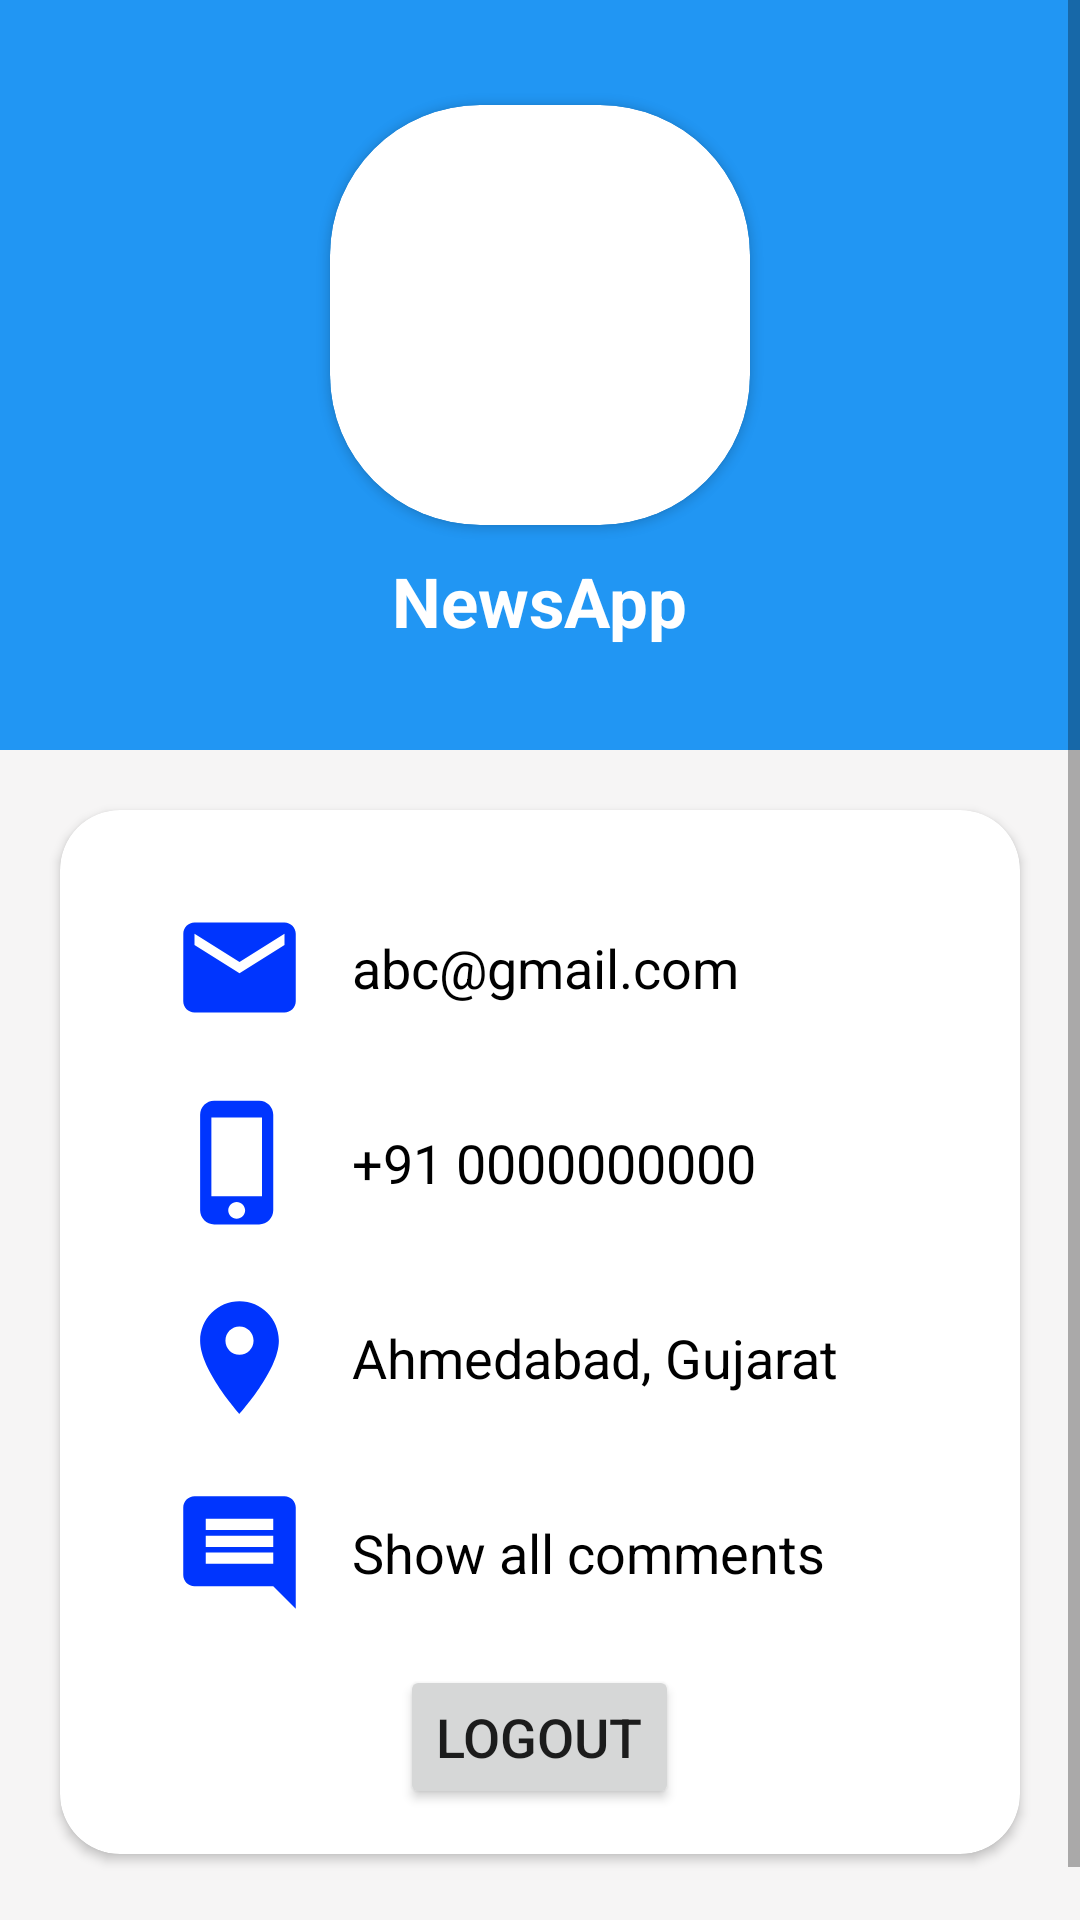

Icon bounding boxes for this 1080x1920 phone screenshot, format box(x1, y1, x2, y2):
email: box(183, 922, 296, 1013)
insert comment: box(183, 1496, 296, 1609)
location on: box(200, 1301, 279, 1414)
phone iphone: box(200, 1100, 274, 1225)
